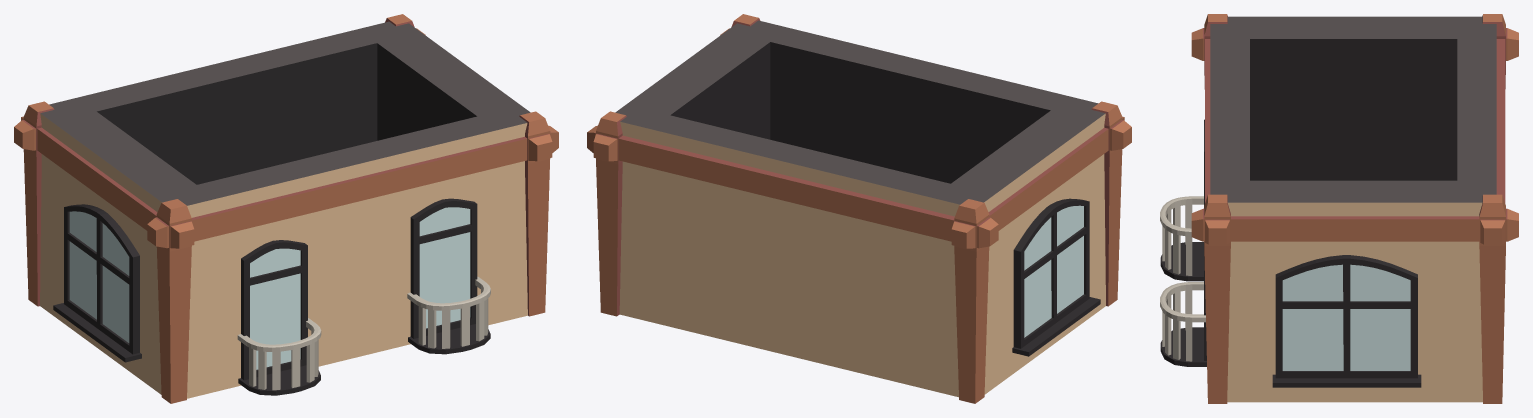
File: Testhouse_Floor.fbx
The picture shows the model from 3 angles, left to right: view 1: azimuth 30°, elevation 25°; view 2: azimuth 150°, elevation 25°; view 3: azimuth 270°, elevation 25°; orthographic projection. The views are drawn at different scales.
Parts seen in each view (by area): view 1: Testhouse_Floor; view 2: Testhouse_Floor; view 3: Testhouse_Floor.
Boxes of the visible parts, x1=… form: Testhouse_Floor: x1=14, y1=14, x2=558, y2=403; Testhouse_Floor: x1=587, y1=14, x2=1131, y2=403; Testhouse_Floor: x1=1160, y1=14, x2=1518, y2=403.
Size of the model in its own units: 219 by 163 by 101.
